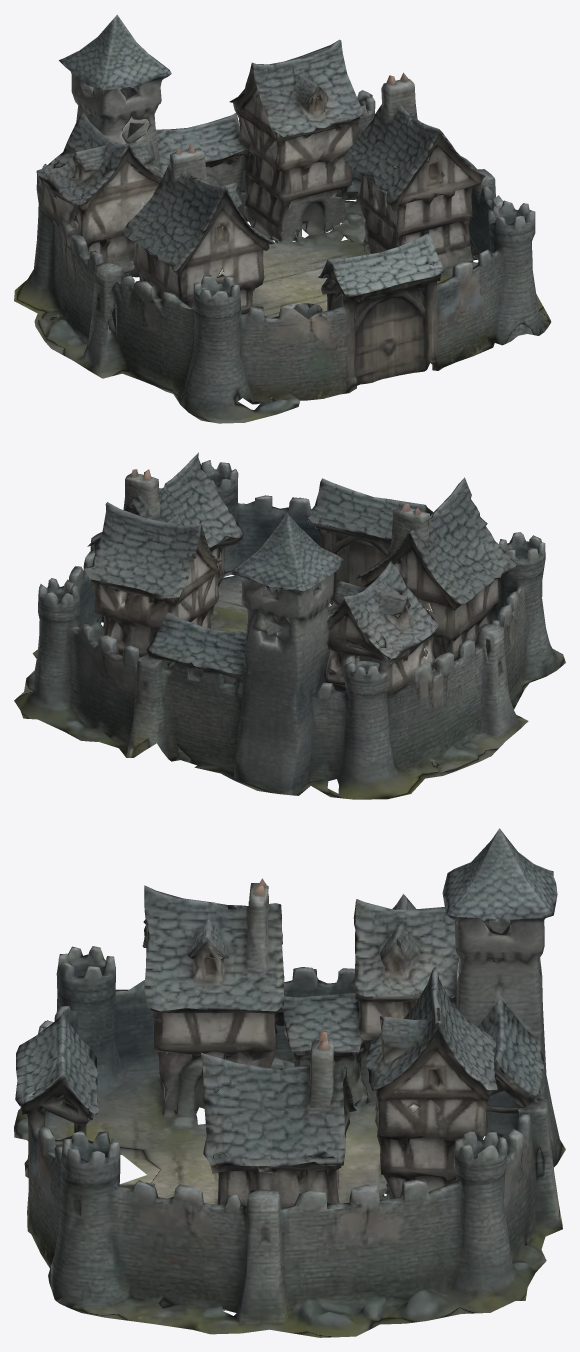
Rendered from city.glb.
The picture shows the model from 3 angles, top to bottom: view 1: azimuth 30°, elevation 25°; view 2: azimuth 150°, elevation 25°; view 3: azimuth 270°, elevation 25°; orthographic projection. The views are drawn at different scales.
Parts seen in each view (by area): view 1: geometry_0; view 2: geometry_0; view 3: geometry_0.
Part boxes in pixels (box(x1,y1,x2,y2)): geometry_0: box(14, 14, 551, 423); geometry_0: box(14, 452, 565, 799); geometry_0: box(14, 828, 565, 1337).
Bounding box in the file's own units: 0.9494 × 0.5256 × 0.8186.
1 material, 1 textured.
